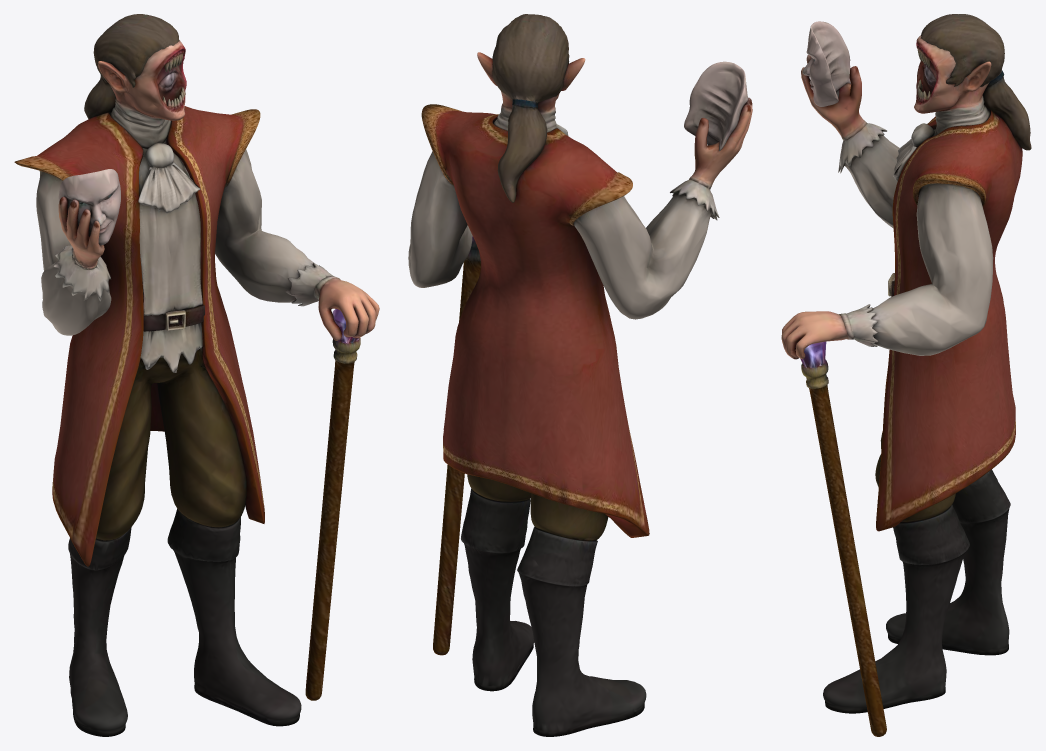
Rendered from MZ4250 - Fear Smith.glb.
3 views of the same model, side by side, from view 1: azimuth 30°, elevation 25°; view 2: azimuth 150°, elevation 25°; view 3: azimuth 270°, elevation 25° (orthographic). The views are drawn at different scales.
Parts seen in each view (by area): view 1: Base.001; view 2: Base.001; view 3: Base.001.
Part boxes in pixels (left/top/right/bottom): Base.001: left=14, top=14, right=379, bottom=736; Base.001: left=408, top=14, right=752, bottom=736; Base.001: left=781, top=14, right=1031, bottom=736.
Bounding box in the file's own units: 42.34 × 90.98 × 31.39.
Materials: 2 (2 with a texture image).
